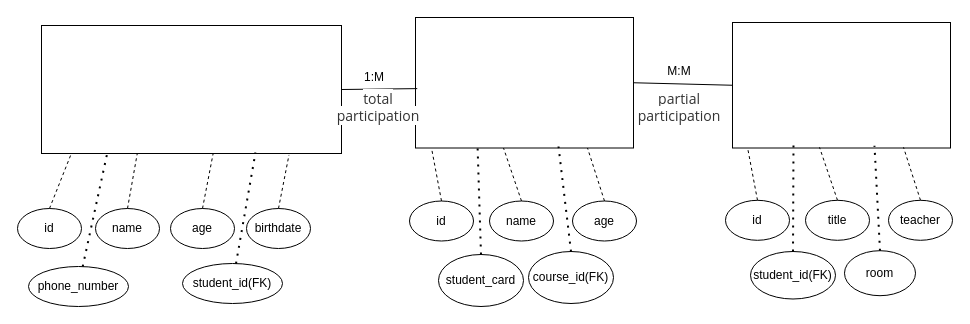
This 970x324 diagram has some shape labels left out. Each missing label, with the centre of its shape:
"Courses" goes at (841,85).
"Students" goes at (524,82).
"Users" goes at (191,89).
